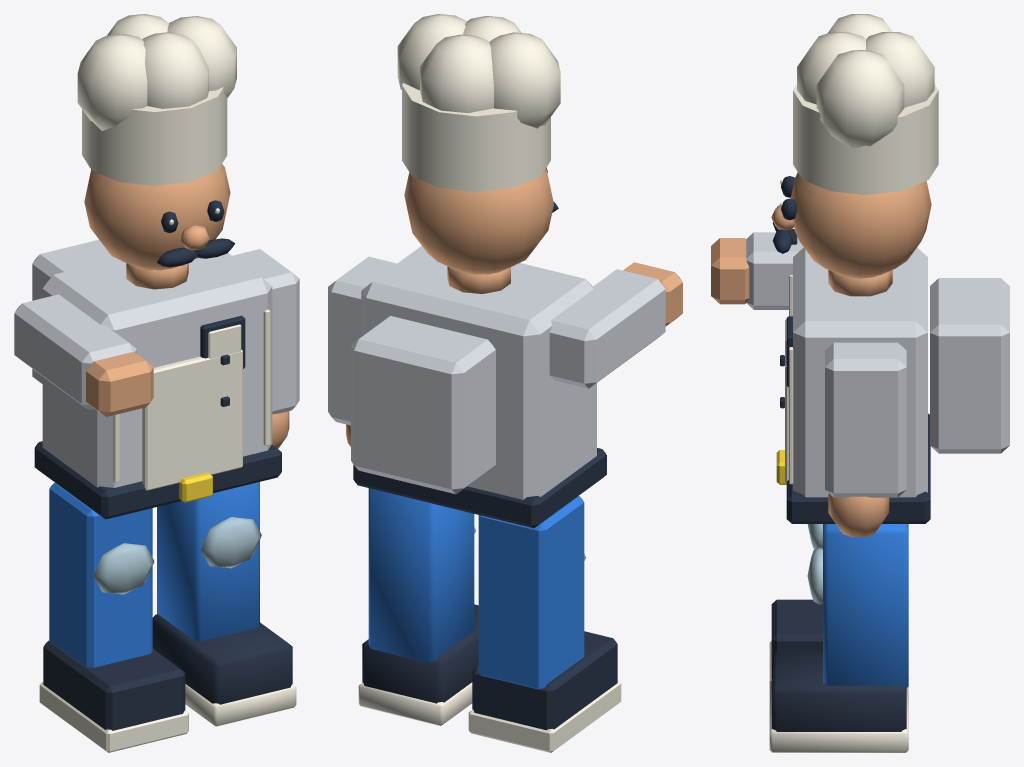
Rendered from fps_char_6.glb.
3 renders of one model, left to right at view 1: azimuth 30°, elevation 25°; view 2: azimuth 150°, elevation 25°; view 3: azimuth 270°, elevation 25°, orthographic. The views are drawn at different scales.
Parts seen in each view (by area): view 1: detail_Vanilla plastic, detail_Paint, leg_r, leg_l, head_core, detail_Ink navy, arm_l, right_hand, detail_Warm vinyl, Buckle; view 2: detail_Paint, leg_r, detail_Vanilla plastic, leg_l, head_core, detail_Ink navy, arm_l, right_hand, detail_Warm vinyl; view 3: detail_Paint, leg_l, detail_Vanilla plastic, arm_l, head_core, detail_Ink navy, leg_r, right_hand, detail_Warm vinyl.
Boxes of the visible parts, x1=… form: detail_Vanilla plastic: x1=77, y1=14, x2=270, y2=490; detail_Paint: x1=14, y1=239, x2=272, y2=487; leg_r: x1=39, y1=482, x2=188, y2=752; leg_l: x1=152, y1=482, x2=296, y2=726; head_core: x1=84, y1=164, x2=230, y2=270; detail_Ink navy: x1=34, y1=200, x2=281, y2=519; arm_l: x1=232, y1=249, x2=299, y2=448; right_hand: x1=86, y1=351, x2=153, y2=416; detail_Warm vinyl: x1=126, y1=225, x2=209, y2=289; Buckle: x1=179, y1=472, x2=212, y2=502; detail_Paint: x1=351, y1=246, x2=665, y2=499; leg_r: x1=468, y1=496, x2=621, y2=752; detail_Vanilla plastic: x1=397, y1=14, x2=560, y2=191; leg_l: x1=358, y1=488, x2=478, y2=725; head_core: x1=404, y1=168, x2=553, y2=274; detail_Ink navy: x1=353, y1=168, x2=606, y2=528; arm_l: x1=328, y1=256, x2=396, y2=446; right_hand: x1=623, y1=262, x2=682, y2=326; detail_Warm vinyl: x1=447, y1=266, x2=510, y2=293; detail_Paint: x1=746, y1=232, x2=1009, y2=497; leg_l: x1=769, y1=524, x2=908, y2=752; detail_Vanilla plastic: x1=780, y1=14, x2=938, y2=484; arm_l: x1=825, y1=342, x2=906, y2=537; head_core: x1=790, y1=172, x2=931, y2=278; detail_Ink navy: x1=772, y1=176, x2=930, y2=523; leg_r: x1=769, y1=524, x2=908, y2=694; right_hand: x1=711, y1=238, x2=749, y2=304; detail_Warm vinyl: x1=771, y1=205, x2=892, y2=296.
Size of the model in its own units: 0.84 by 2.09 by 0.84.
